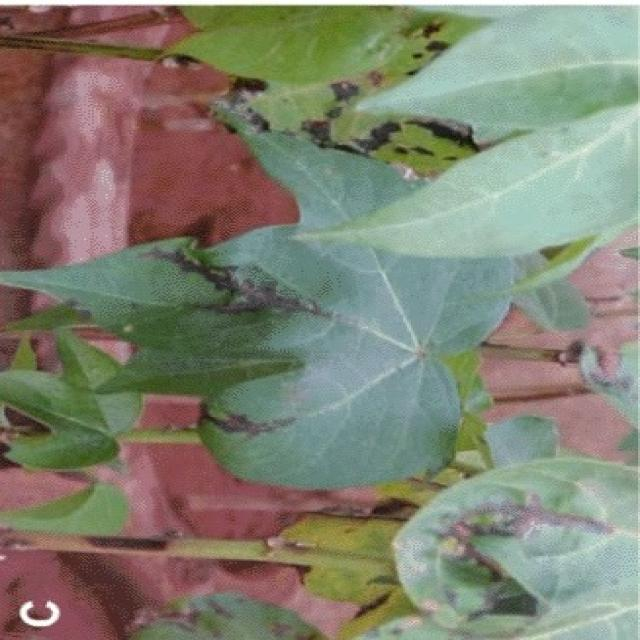Bacterial Blight: (213, 52, 468, 353)
